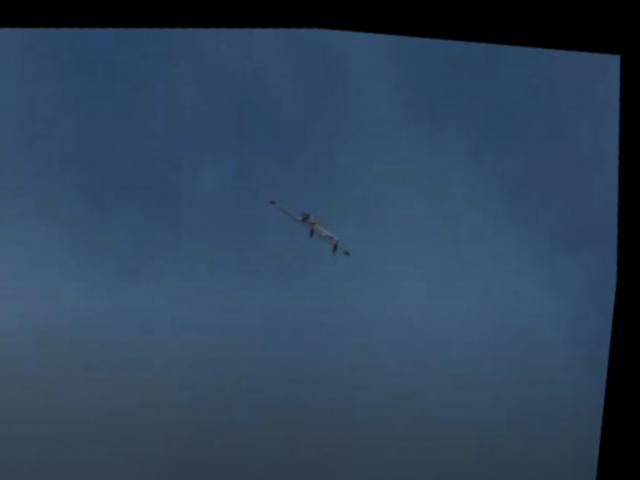iha: (271, 186, 356, 253)
